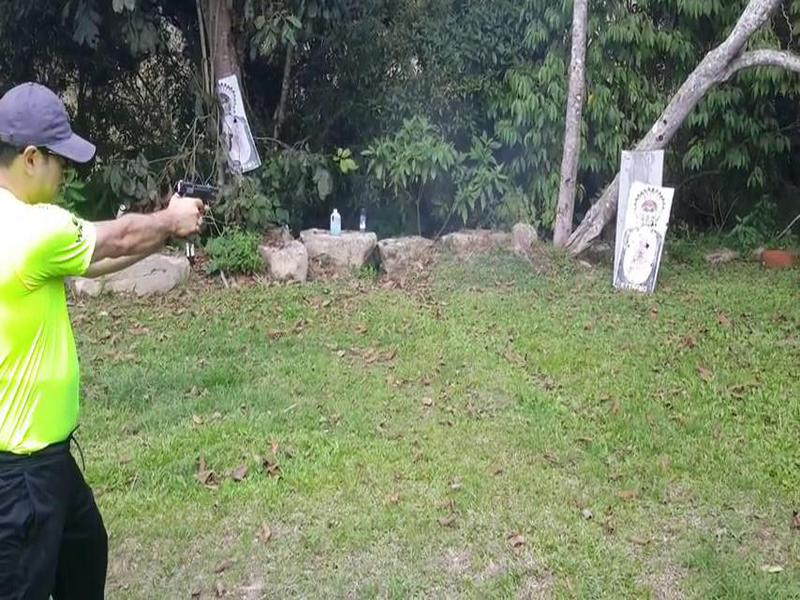Pistola: (164, 171, 224, 220)
